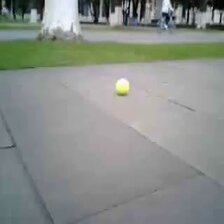tennis: (115, 78, 130, 95)
